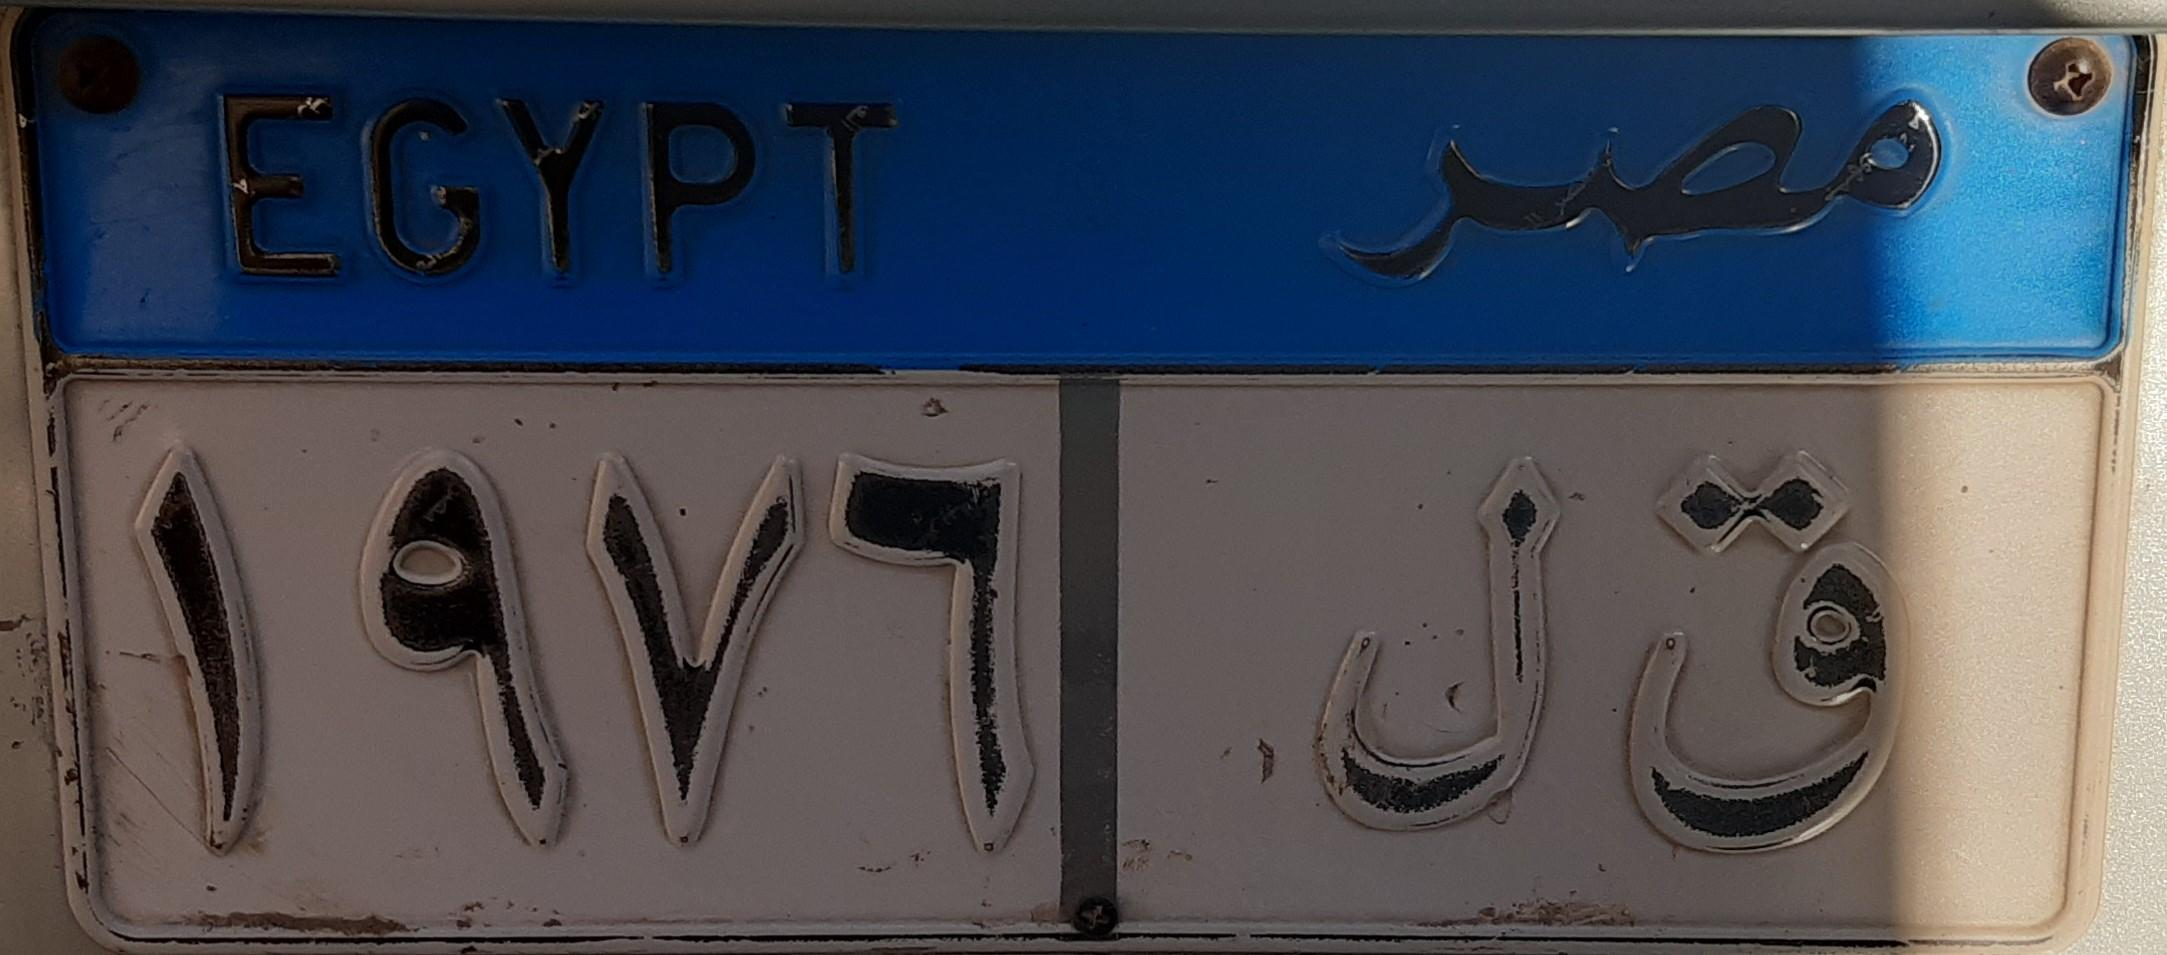1: (130, 430, 283, 880)
6: (823, 447, 1050, 847)
7: (573, 443, 810, 857)
9: (357, 453, 557, 837)
laam: (1277, 480, 1563, 873)
qaaf: (1583, 427, 1923, 870)
